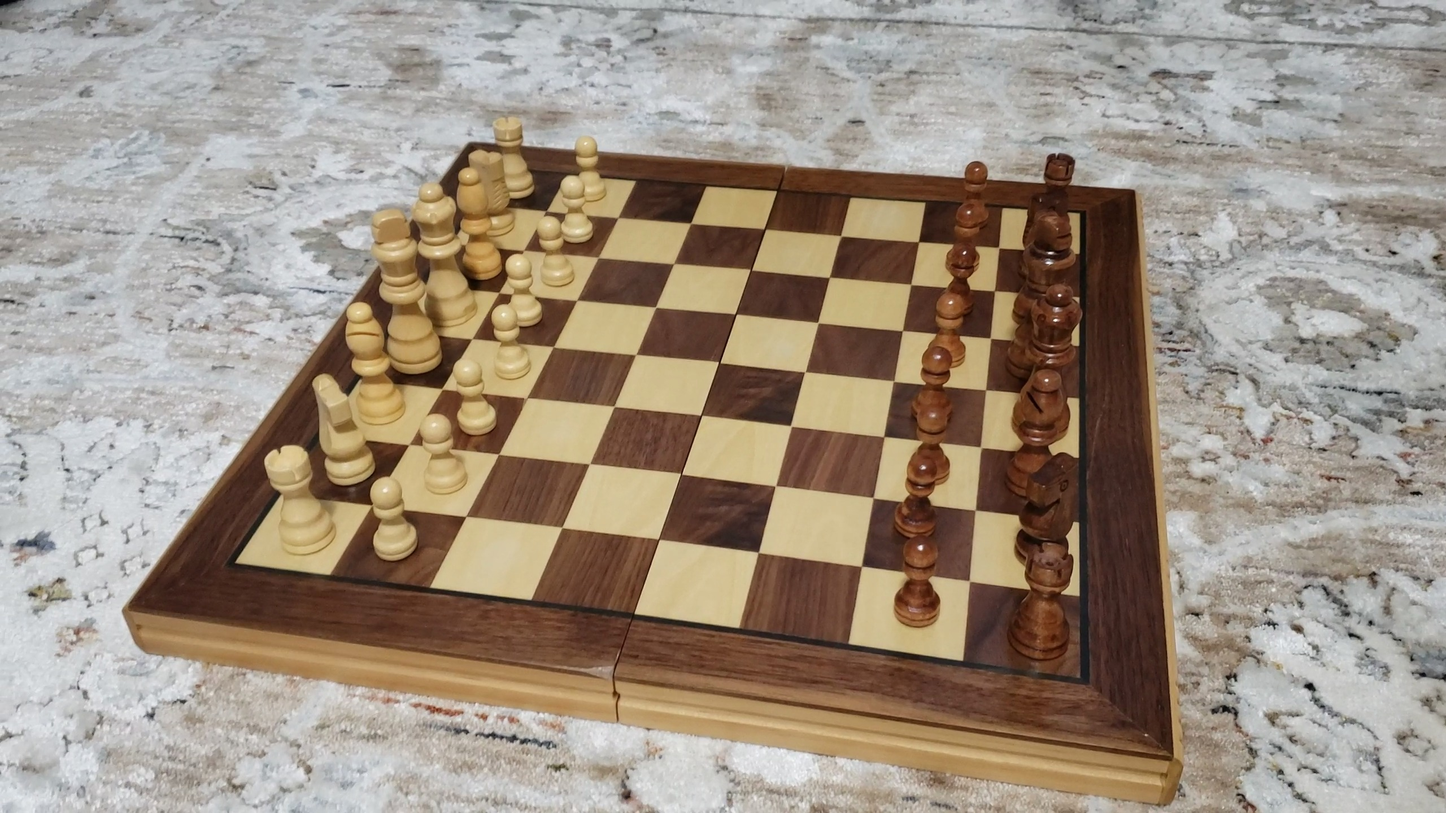black-bishop: (1006, 373, 1083, 452)
black-king: (1016, 209, 1089, 282)
black-knight: (1009, 448, 1080, 571)
black-pawn: (905, 384, 955, 488), (891, 535, 943, 630), (890, 456, 941, 543), (927, 289, 972, 370), (914, 340, 954, 431), (952, 157, 991, 234), (941, 243, 981, 316), (947, 200, 988, 270)
black-queen: (1021, 279, 1094, 374)
black-rook: (1006, 544, 1078, 662), (1026, 144, 1092, 201)
white-bishop: (337, 299, 410, 430), (455, 167, 501, 273)
white-king: (365, 200, 445, 380)
white-knight: (307, 373, 380, 489), (456, 146, 515, 261)
white-pawn: (360, 474, 425, 567), (415, 412, 473, 498), (448, 357, 502, 439), (496, 249, 547, 330), (528, 212, 578, 292), (487, 302, 535, 383), (550, 174, 600, 246), (570, 132, 611, 206)
white-queen: (410, 180, 477, 331)
white-rook: (259, 444, 339, 558), (488, 112, 540, 203)
